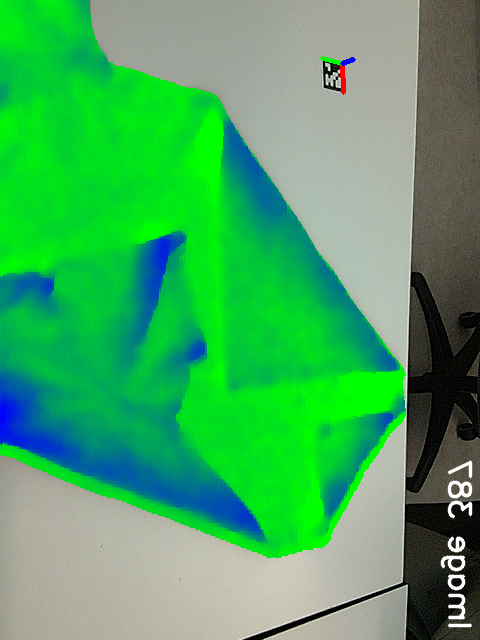V: (145, 215, 193, 276), (214, 347, 262, 403), (301, 410, 345, 454)
